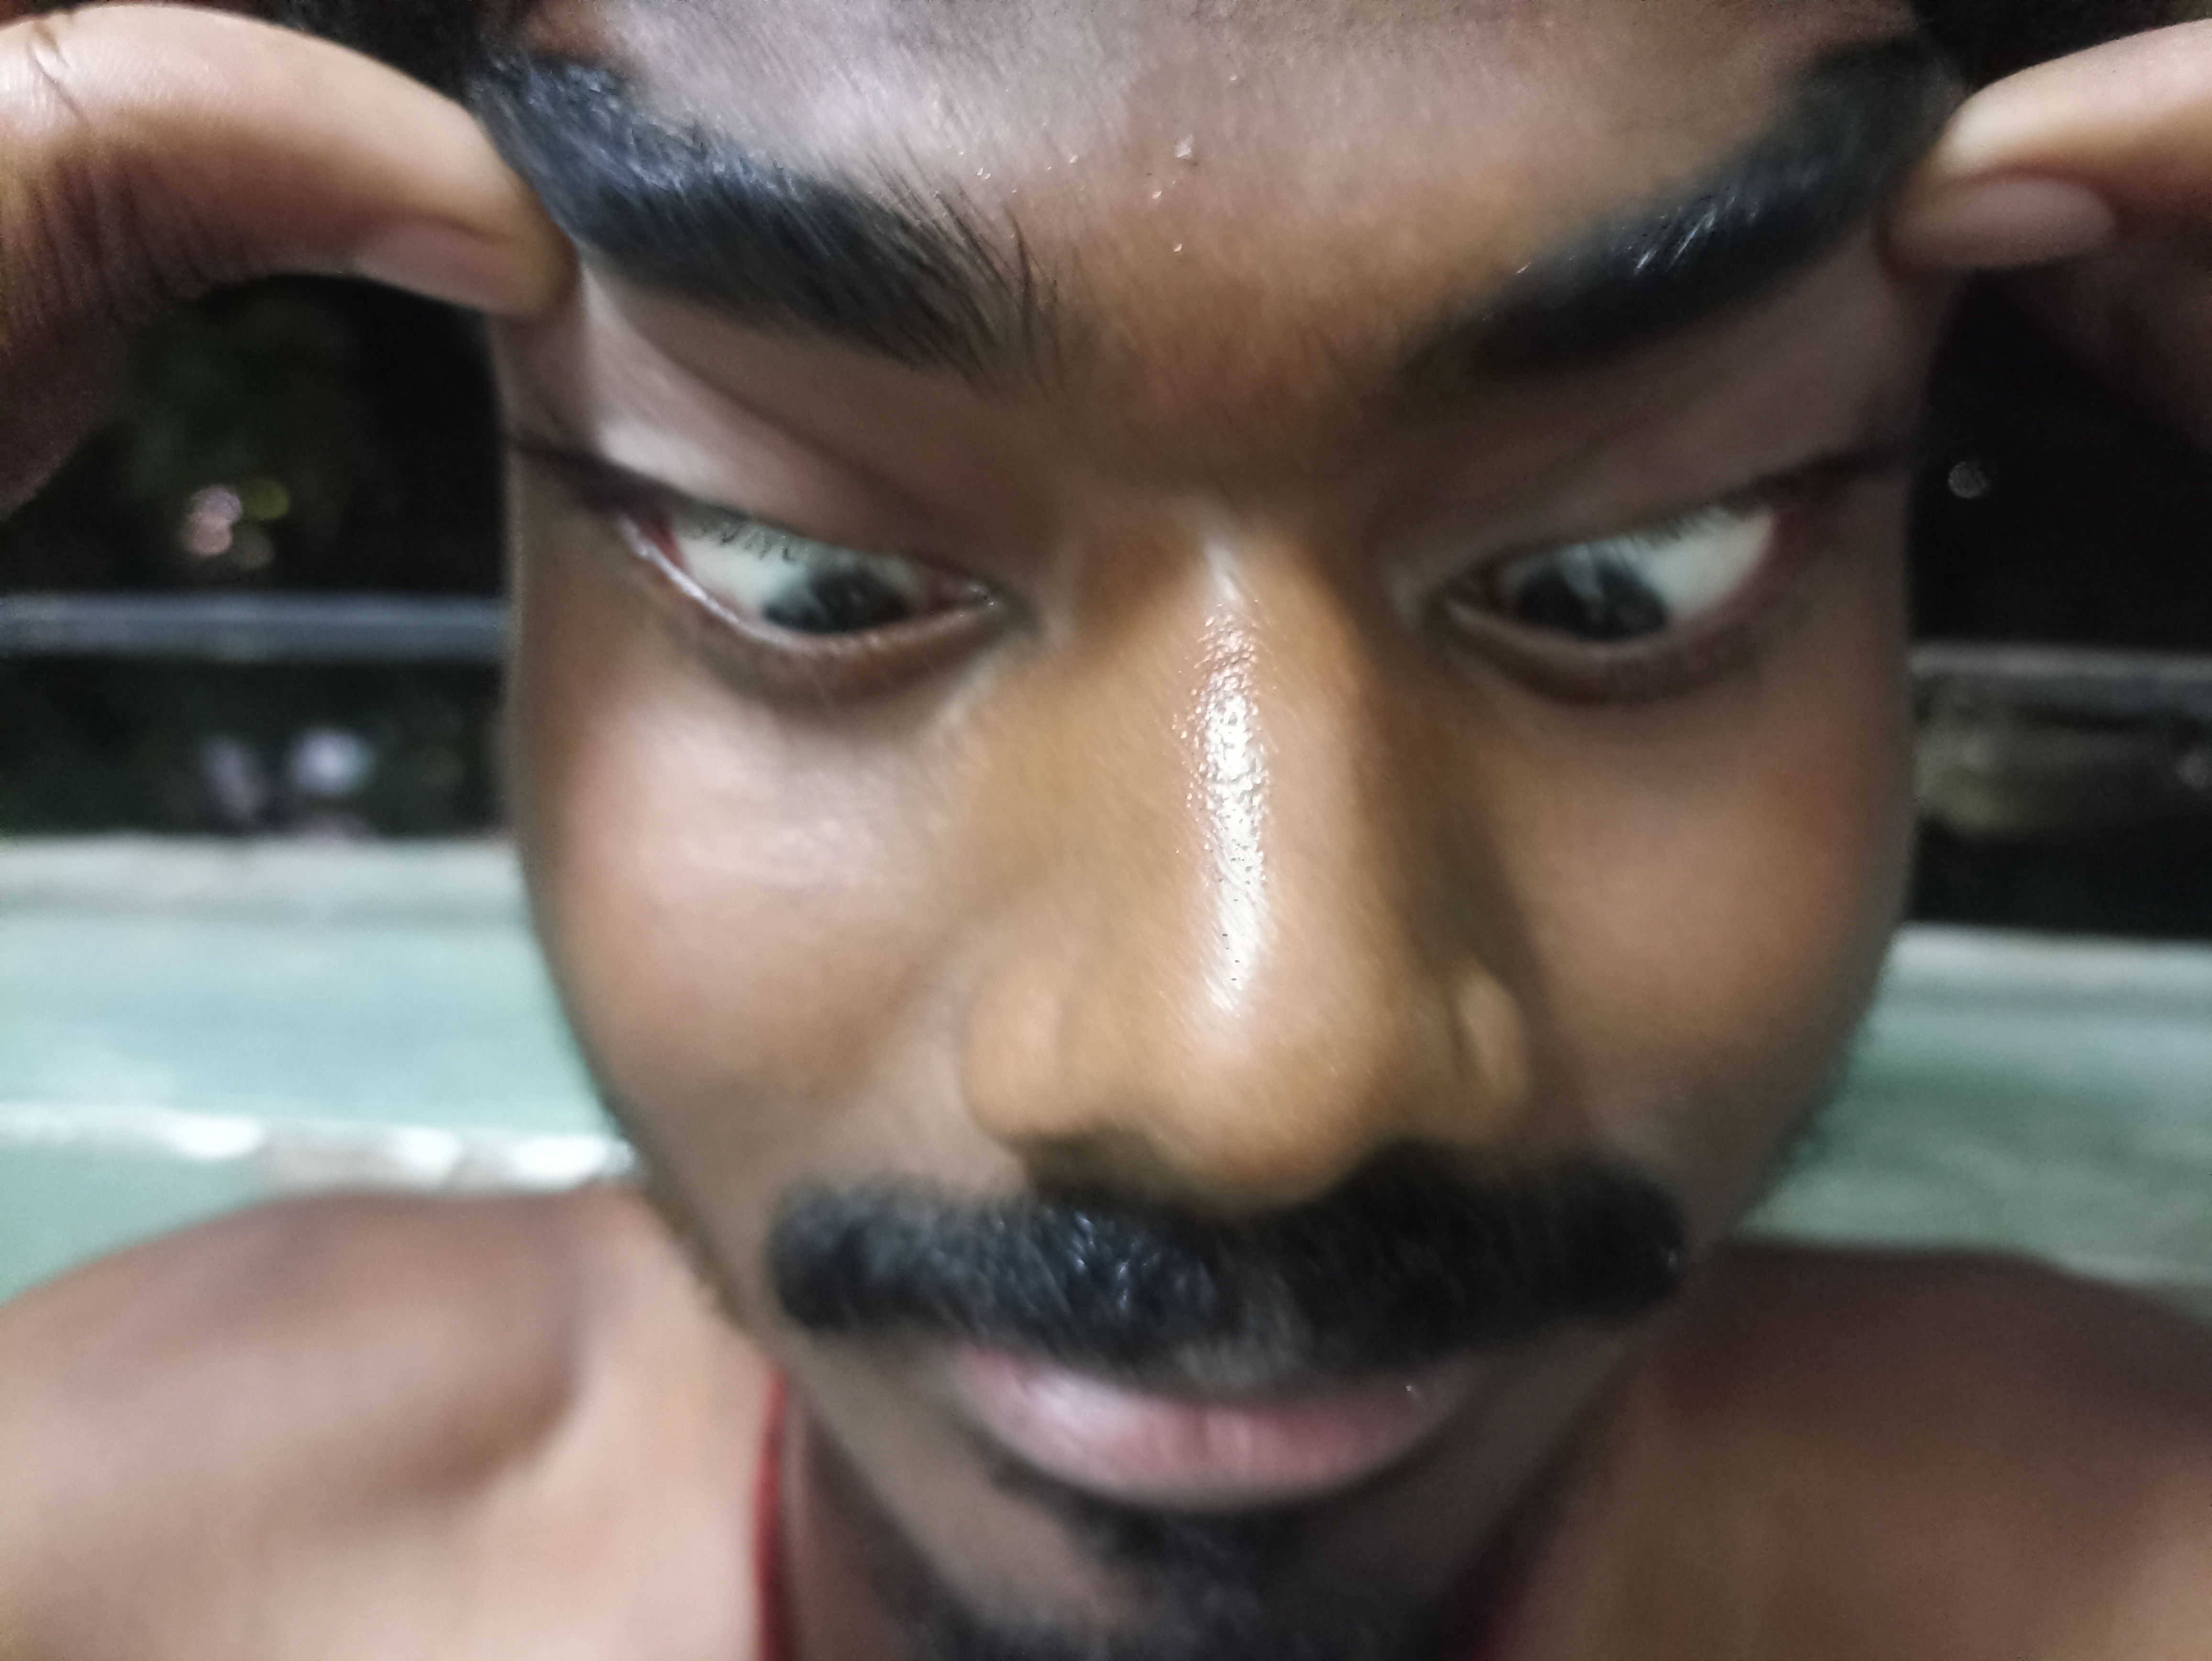EYE DOWN: (1303, 241, 1975, 804), (434, 246, 1055, 780)
